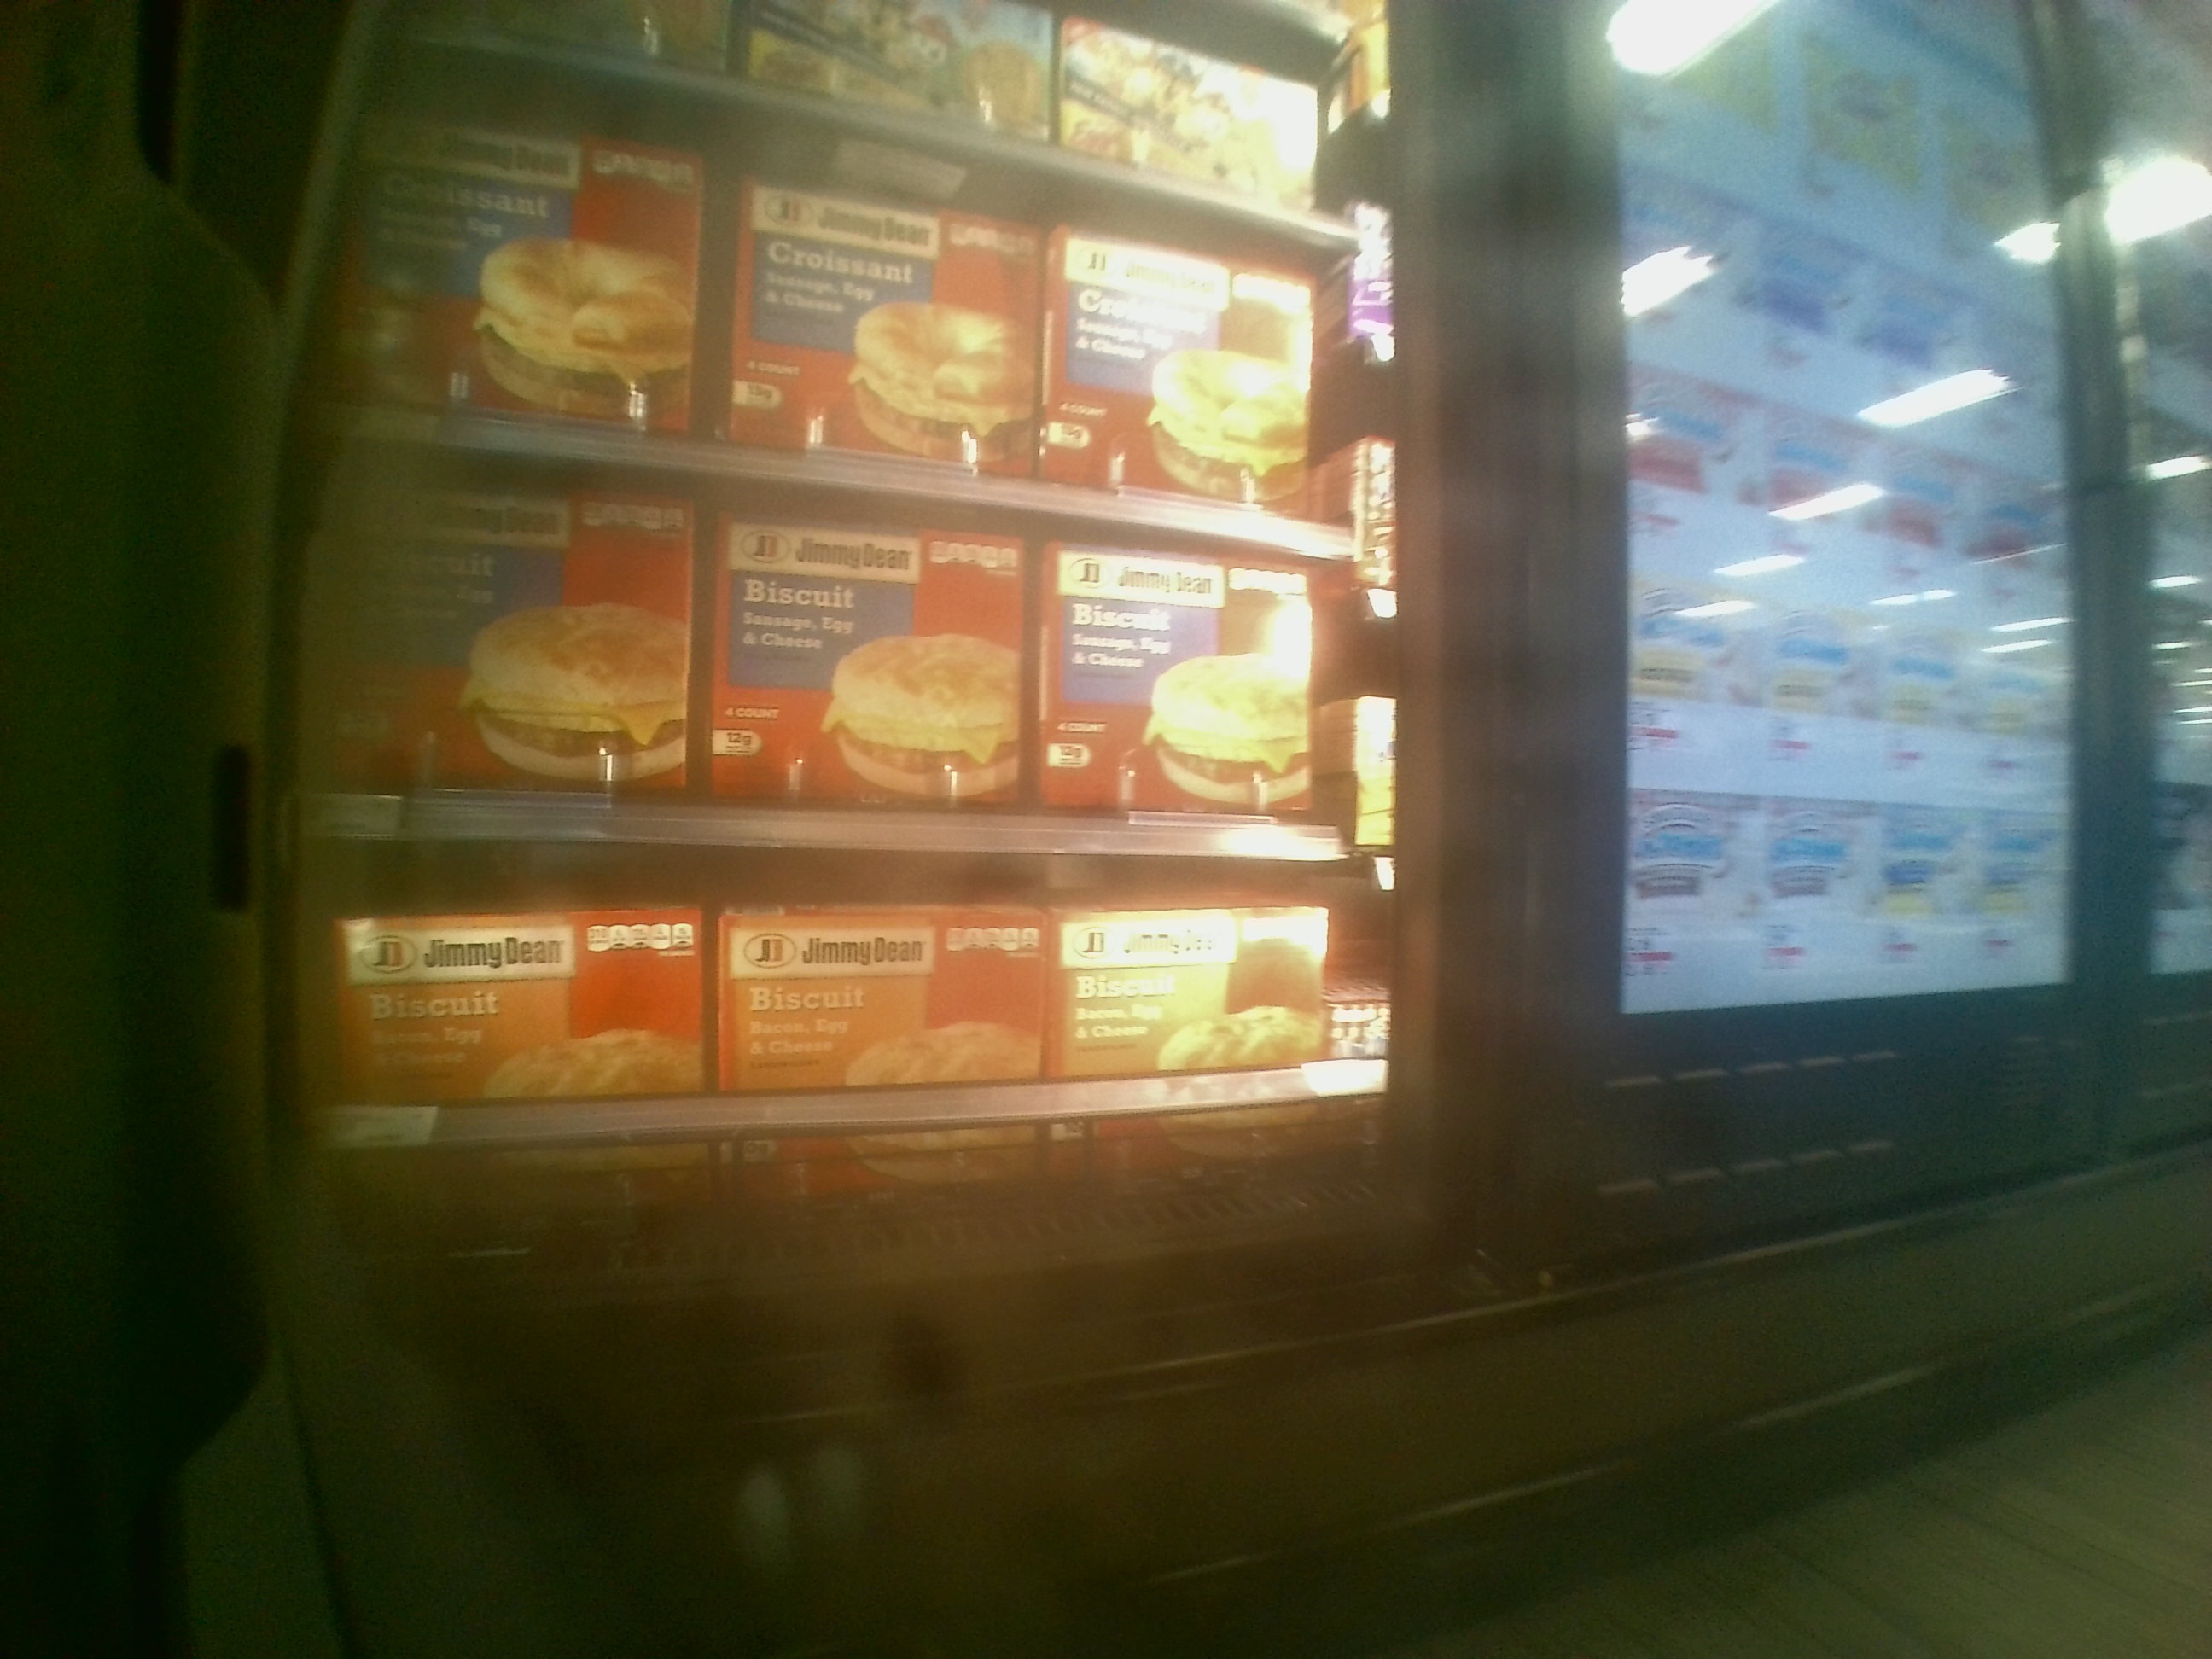shelf: (289, 430, 1411, 854), (289, 854, 1399, 1236)
